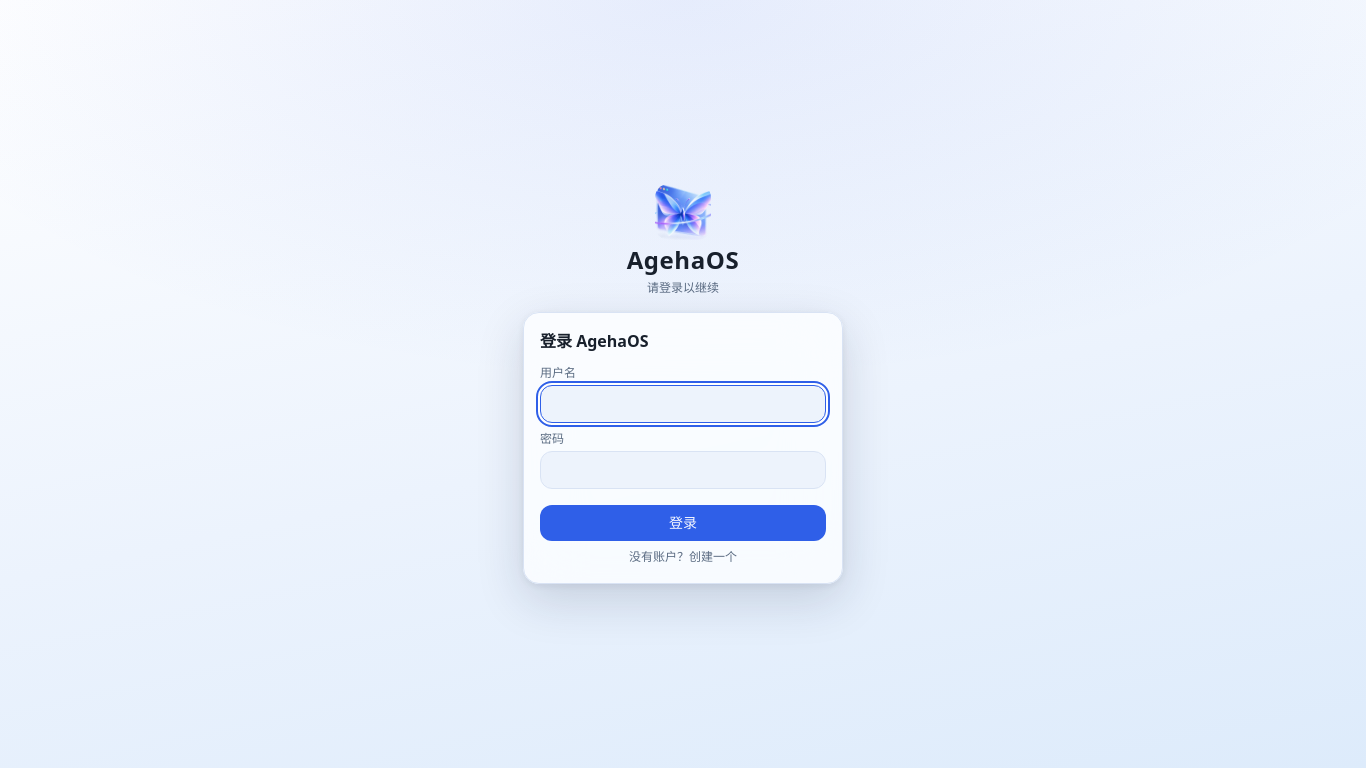
Scenario: LoginScreen › shows a validation error when registering a duplicate username
Click the button "没有账户？创建一个": (683, 557) x1=540 y1=549 x2=826 y2=565
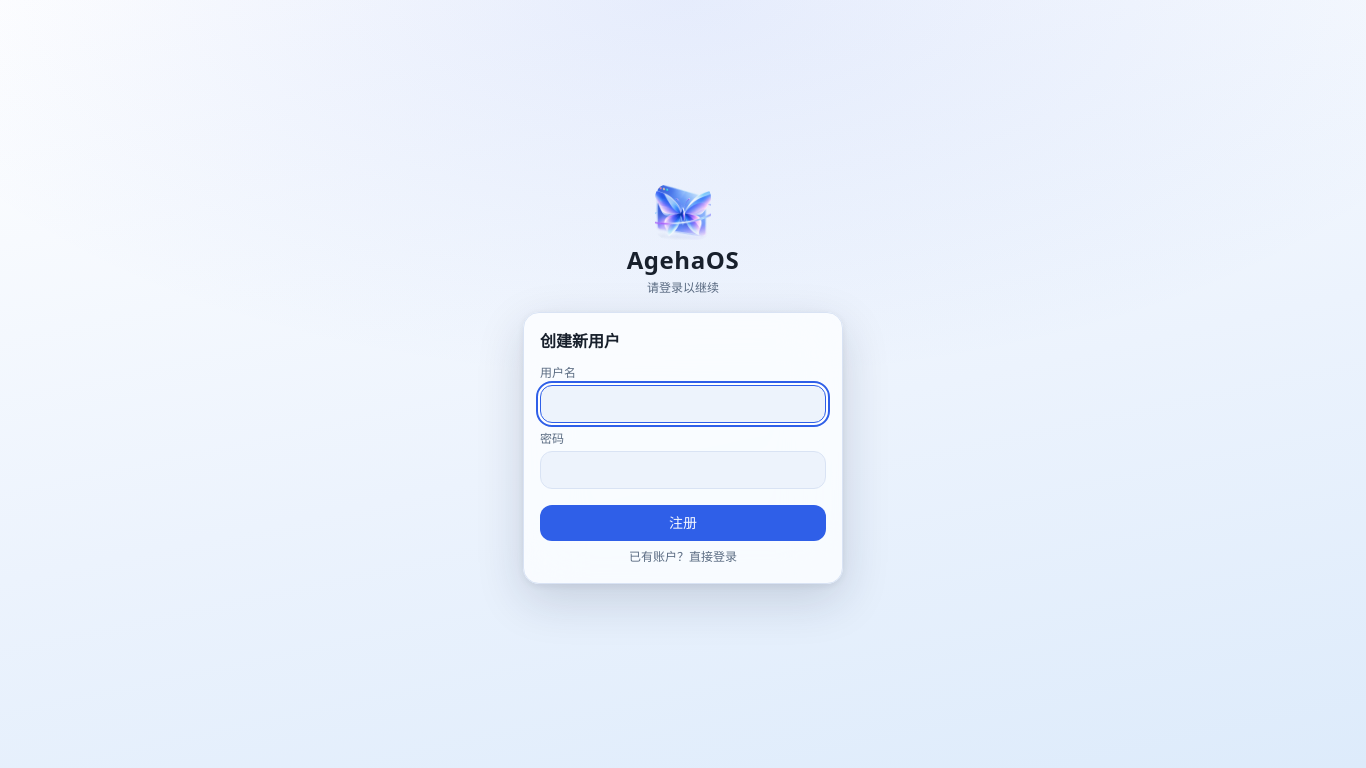
In the field labelled "用户名": (683, 404) x1=540 y1=385 x2=826 y2=423, type "dave"
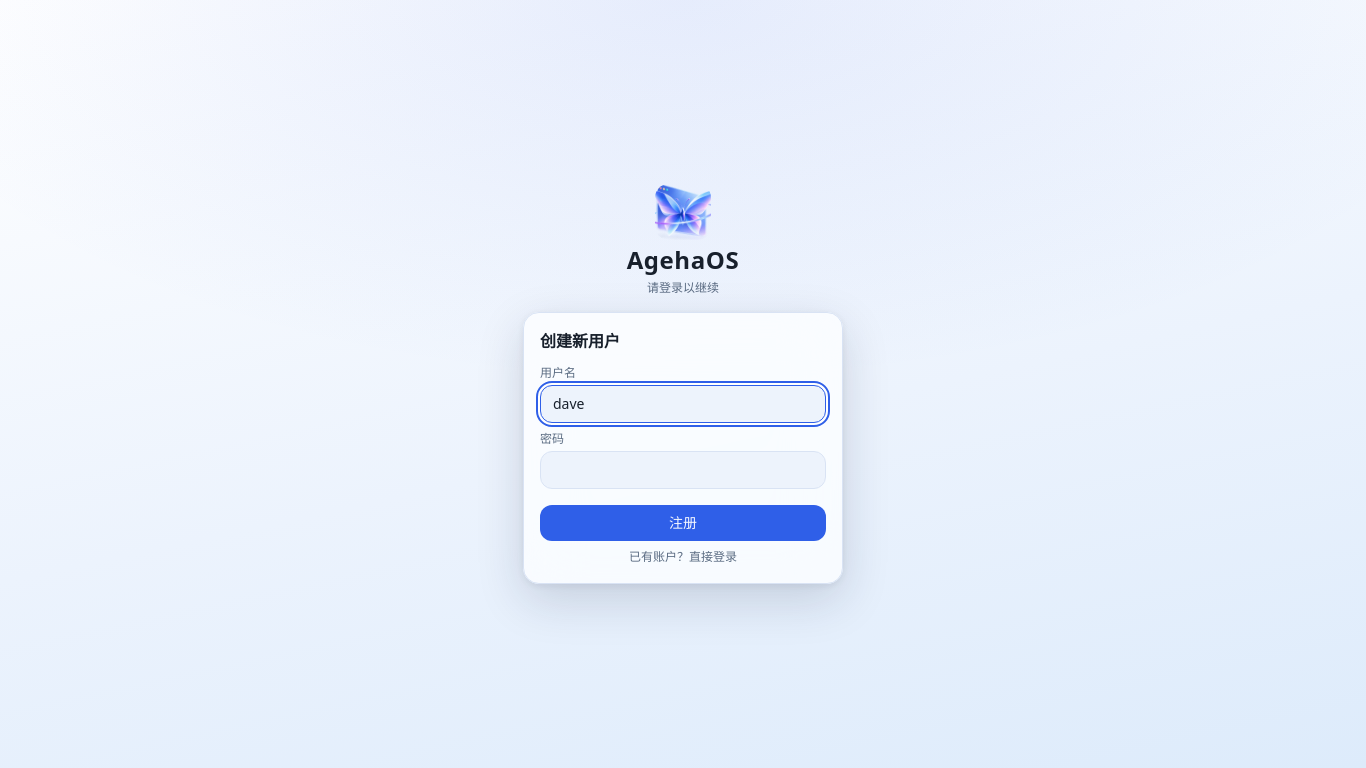
In the password field labelled "密码": (683, 470) x1=540 y1=451 x2=826 y2=489, type "secret123"
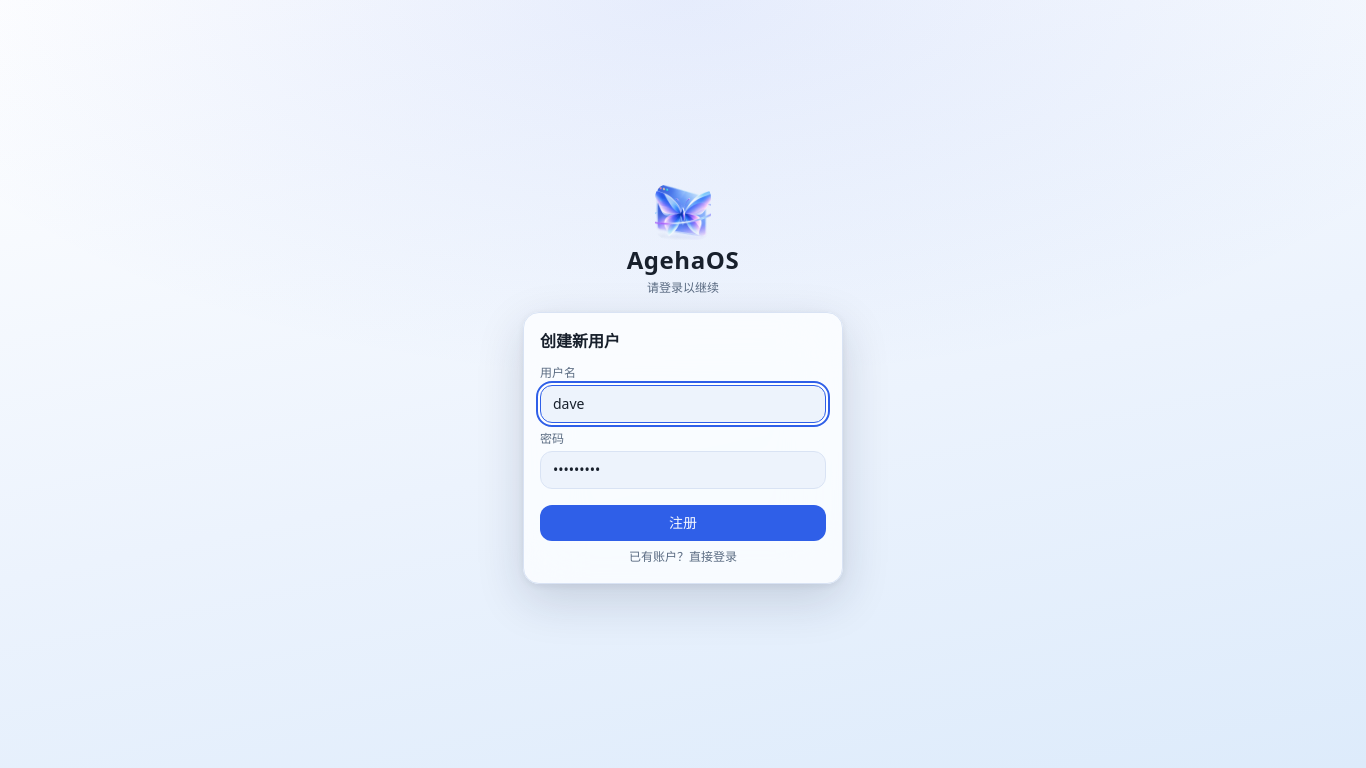
Click the button "注册": (683, 523) x1=540 y1=505 x2=826 y2=541
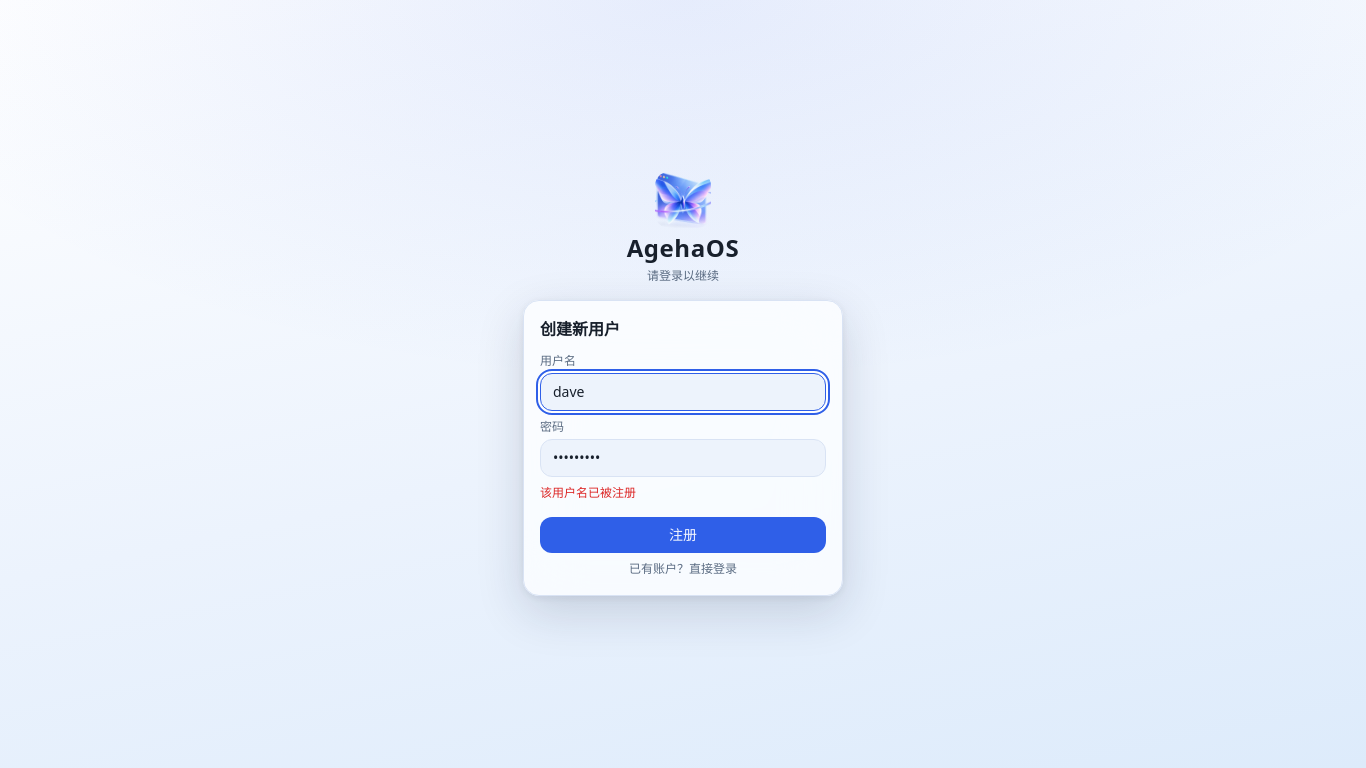
Check: the message reads "该用户名已被注册", box x1=540 y1=484 x2=636 y2=501
